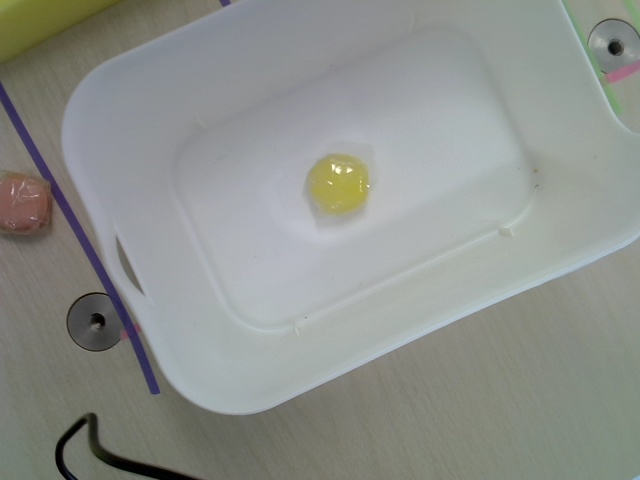씨앗: (306, 152, 372, 216), (2, 172, 55, 237)
